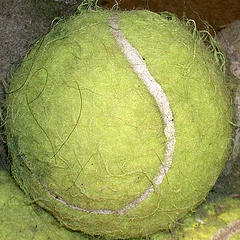tennis ball: (3, 6, 238, 238)
